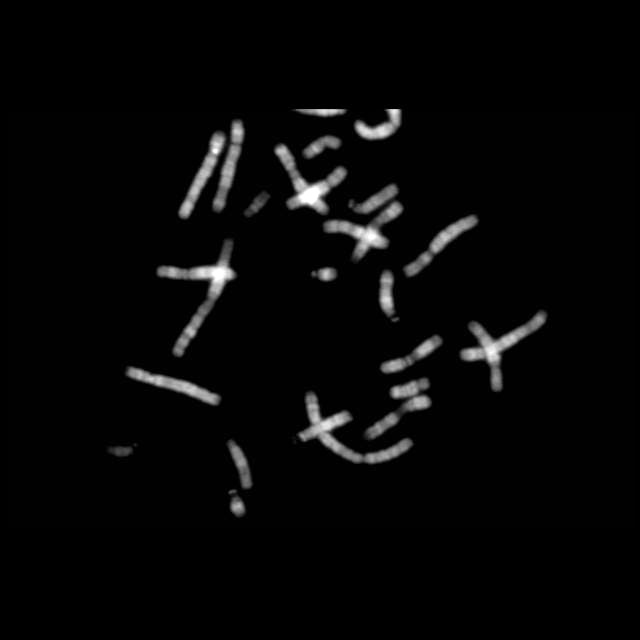chromosome: (304, 391, 414, 465), (172, 236, 233, 356), (404, 215, 478, 277), (460, 310, 548, 362), (178, 130, 226, 220), (273, 144, 327, 216), (127, 367, 220, 405), (352, 202, 404, 260), (213, 120, 245, 212), (366, 395, 432, 439), (381, 334, 443, 374), (288, 166, 347, 208), (471, 322, 503, 392), (322, 220, 388, 248), (298, 411, 352, 443), (348, 182, 398, 214), (156, 264, 236, 282), (355, 109, 401, 139), (225, 439, 252, 489), (379, 270, 399, 322), (390, 376, 430, 398), (304, 134, 340, 158), (244, 192, 268, 218), (228, 489, 246, 516), (312, 266, 338, 282), (111, 444, 133, 458)
